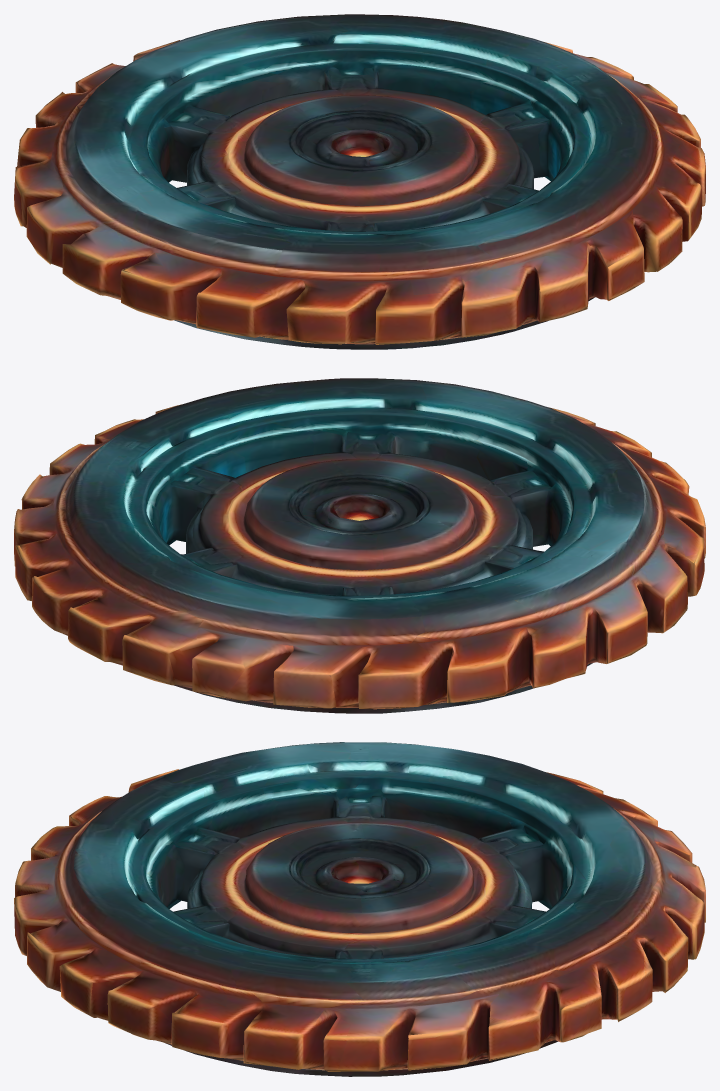
Rendered from saw_a.glb.
The picture shows the model from 3 angles, top to bottom: view 1: azimuth 30°, elevation 25°; view 2: azimuth 150°, elevation 25°; view 3: azimuth 270°, elevation 25°; orthographic projection.
Parts seen in each view (by area): view 1: SAW_A; view 2: SAW_A; view 3: SAW_A.
Part boxes in pixels (left/top/right/bottom): SAW_A: left=14, top=14, right=705, bottom=349; SAW_A: left=14, top=378, right=705, bottom=713; SAW_A: left=14, top=742, right=705, bottom=1076.
Bounding box in the file's own units: 1.49 × 0.2292 × 1.49.
1 material, 1 textured.
